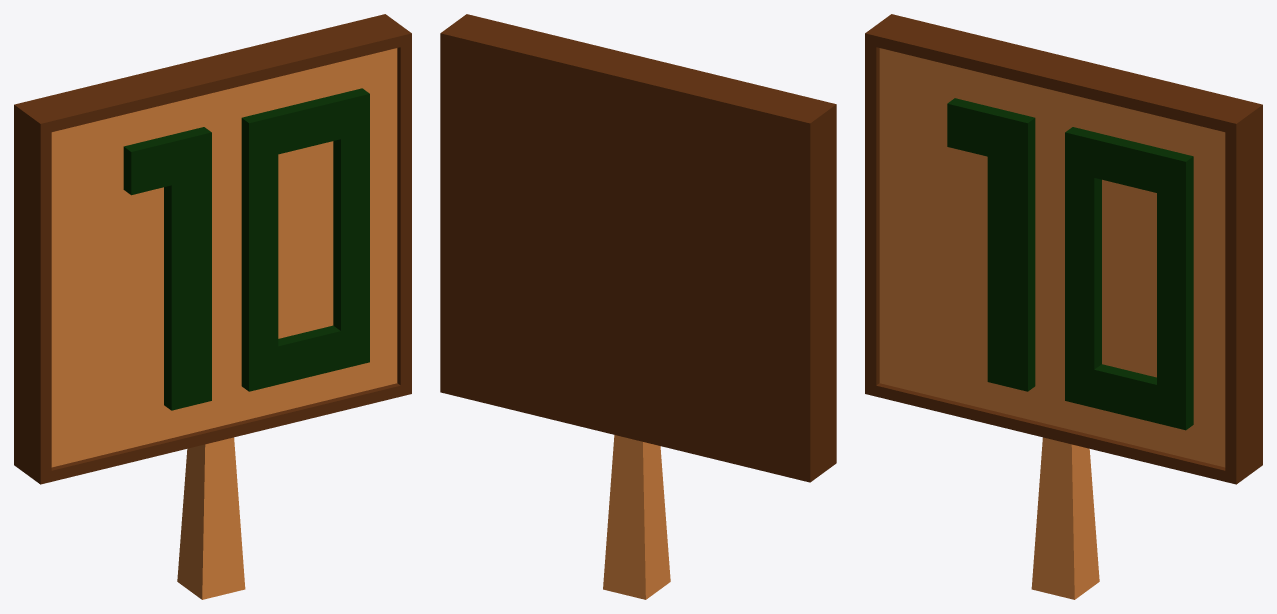
Rendered from Sign_10.fbx.
3 renders of one model, left to right at view 1: azimuth 30°, elevation 25°; view 2: azimuth 150°, elevation 25°; view 3: azimuth 330°, elevation 25°, orthographic.
Parts seen in each view (by area): view 1: Cube; view 2: Cube; view 3: Cube.
Part boxes in pixels (x1=…): Cube: x1=14, y1=14, x2=411, y2=599; Cube: x1=440, y1=14, x2=836, y2=599; Cube: x1=865, y1=14, x2=1262, y2=599.
Bounding box in the file's own units: 171 × 228 × 25.28.
